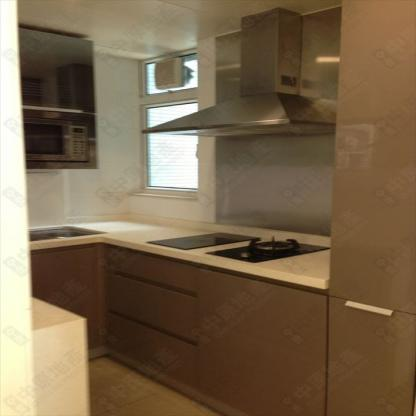Cupboard: (29, 243, 334, 415)
Exhaust Hood: (142, 8, 340, 138)
Microwave: (24, 116, 91, 162)
Sink: (29, 225, 104, 242)
Stove: (149, 232, 330, 263)
